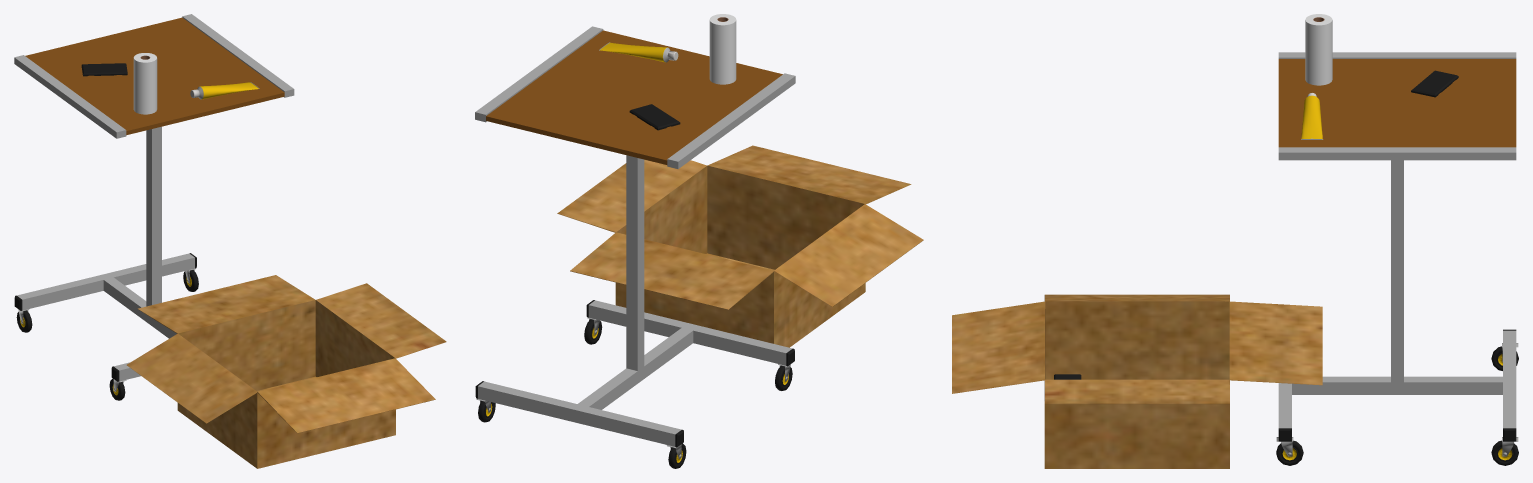
File: FESTO_table.fbx
3 renders of one model, left to right at view 1: azimuth 30°, elevation 25°; view 2: azimuth 150°, elevation 25°; view 3: azimuth 270°, elevation 25°, orthographic. The views are drawn at different scales.
Visible parts, largest first — view 1: Cardboard_box, Table, Rouleau, Glue, FESTO2_bis.013; view 2: Cardboard_box, Table, Rouleau, Glue, FESTO2_bis.013; view 3: Cardboard_box, Table, Rouleau, Glue, FESTO2_bis.013.
Boxes of the visible parts, bbox=[...] form: Cardboard_box: bbox=[127, 275, 446, 468]; Table: bbox=[14, 14, 294, 400]; Rouleau: bbox=[133, 53, 157, 114]; Glue: bbox=[190, 82, 259, 99]; FESTO2_bis.013: bbox=[81, 63, 127, 76]; Cardboard_box: bbox=[557, 145, 923, 347]; Table: bbox=[475, 26, 795, 468]; Rouleau: bbox=[709, 14, 736, 84]; Glue: bbox=[599, 42, 678, 62]; FESTO2_bis.013: bbox=[629, 104, 680, 130]; Cardboard_box: bbox=[952, 294, 1322, 468]; Table: bbox=[1276, 52, 1518, 465]; Rouleau: bbox=[1305, 14, 1332, 85]; Glue: bbox=[1301, 93, 1323, 139]; FESTO2_bis.013: bbox=[1411, 70, 1458, 97].
Bounding box in the file's own units: 0.7057 × 0.9067 × 1.24.
9 materials, 1 textured.
